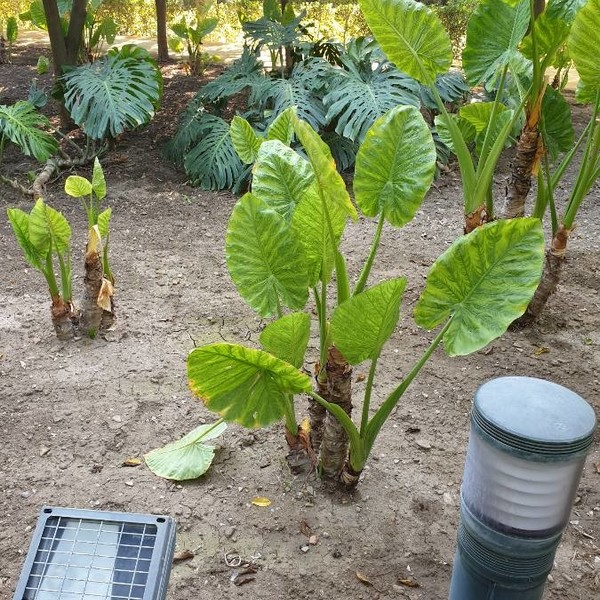obstacle: (210, 92, 477, 504), (349, 9, 577, 320), (81, 35, 237, 184), (13, 153, 117, 321)
